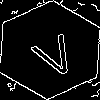V: (25, 25, 82, 81)
